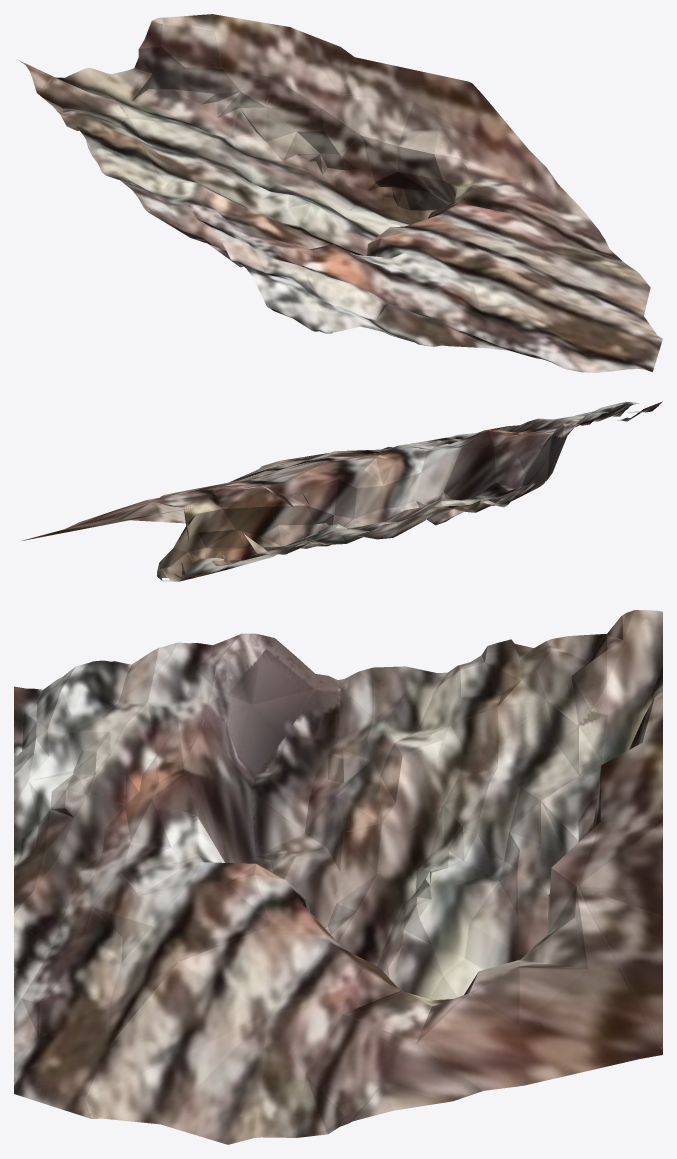
The picture shows the model from 3 angles, top to bottom: view 1: azimuth 30°, elevation 25°; view 2: azimuth 150°, elevation 25°; view 3: azimuth 270°, elevation 25°; orthographic projection. The views are drawn at different scales.
Size of the model in its own units: 1.67 by 0.7545 by 1.67.
3 materials, 3 textured.
